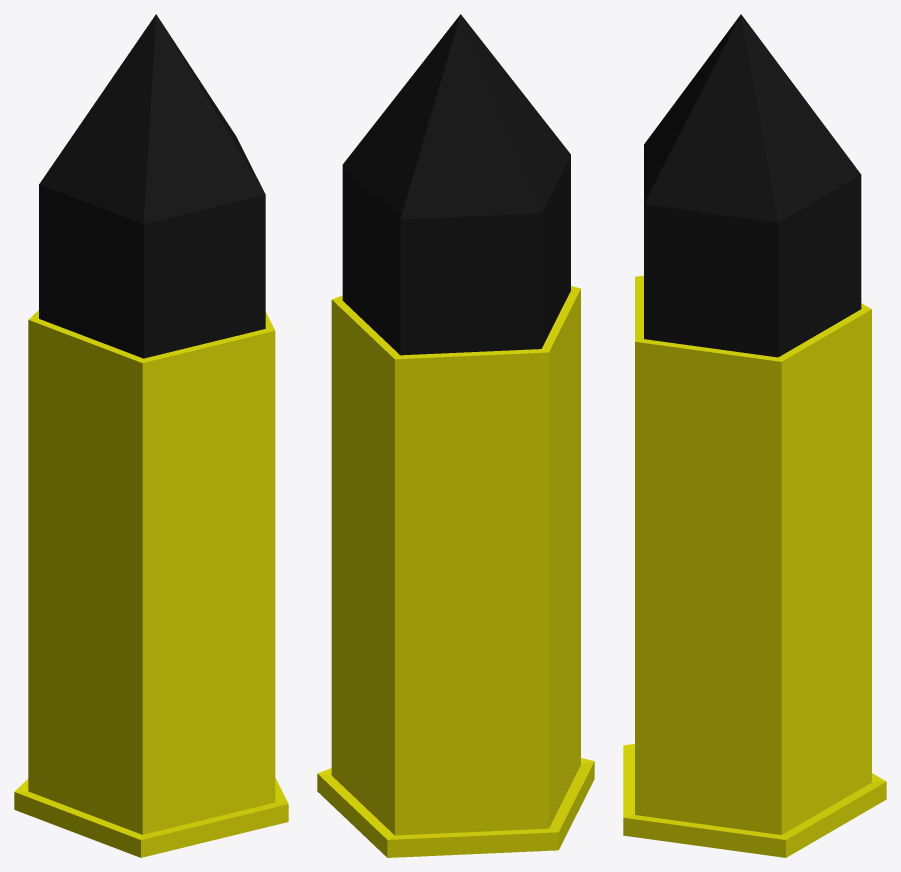
Rendered from TankBullet.fbx.
The picture shows the model from 3 angles, left to right: view 1: azimuth 30°, elevation 25°; view 2: azimuth 150°, elevation 25°; view 3: azimuth 270°, elevation 25°; orthographic projection.
Visible parts, largest first — view 1: Cylinder; view 2: Cylinder; view 3: Cylinder.
Part boxes in pixels (x1,y1,x2,y2): Cylinder: (14,14,288,857); Cylinder: (317,14,594,857); Cylinder: (623,14,886,857).
Bounding box in the file's own units: 76.13 × 72.4 × 238.
